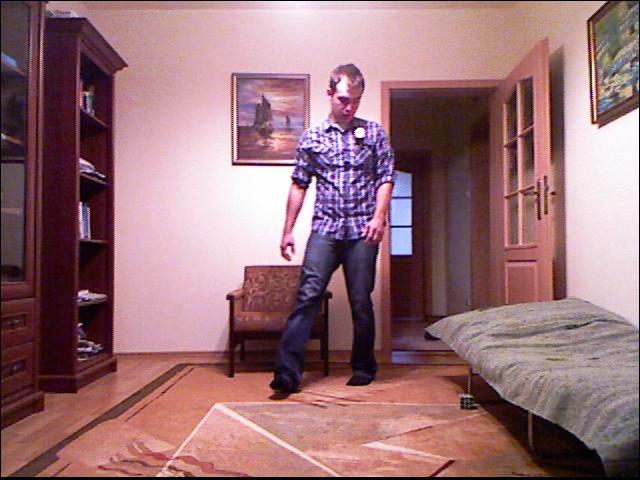walking: (282, 53, 399, 411)
